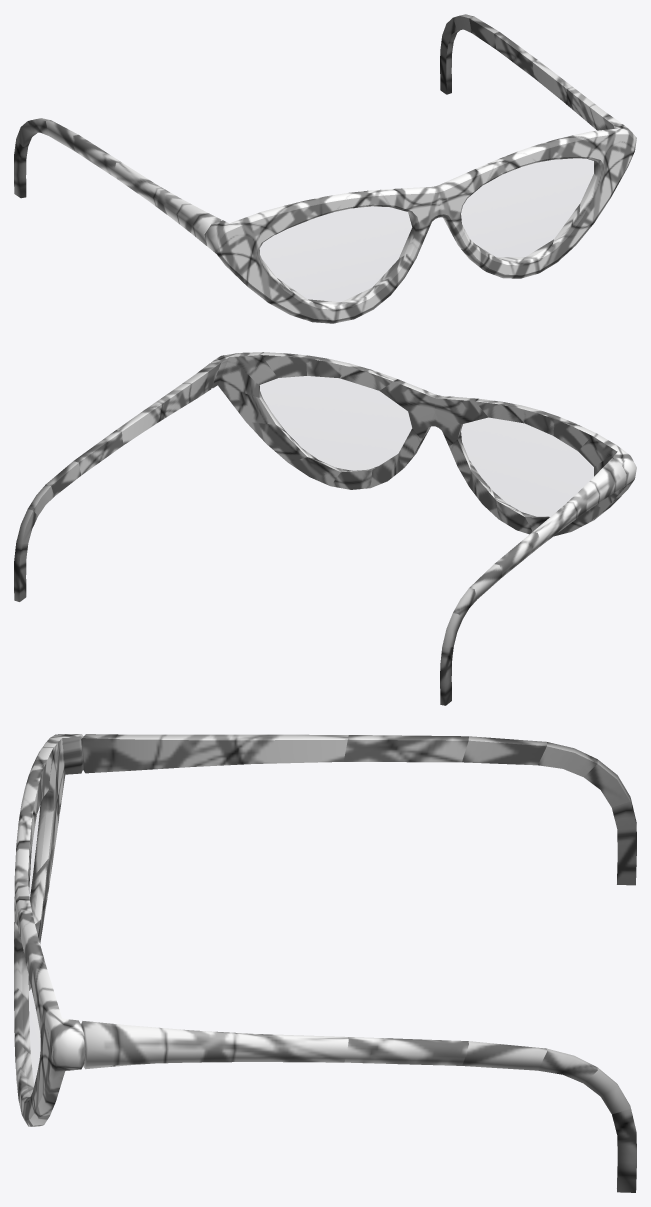
3 views of the same model, one above another, from view 1: azimuth 30°, elevation 25°; view 2: azimuth 150°, elevation 25°; view 3: azimuth 270°, elevation 25° (orthographic). The views are drawn at different scales.
Parts seen in each view (by area): view 1: Wolf3D_Glasses; view 2: Wolf3D_Glasses; view 3: Wolf3D_Glasses.
Boxes of the visible parts, box(x1,y1,x2,y2) form: Wolf3D_Glasses: box(14, 14, 636, 323); Wolf3D_Glasses: box(14, 352, 636, 705); Wolf3D_Glasses: box(14, 734, 636, 1192).
Bounding box in the file's own units: 0.1603 × 0.0443 × 0.1352.
Materials: 1 (1 with a texture image).
